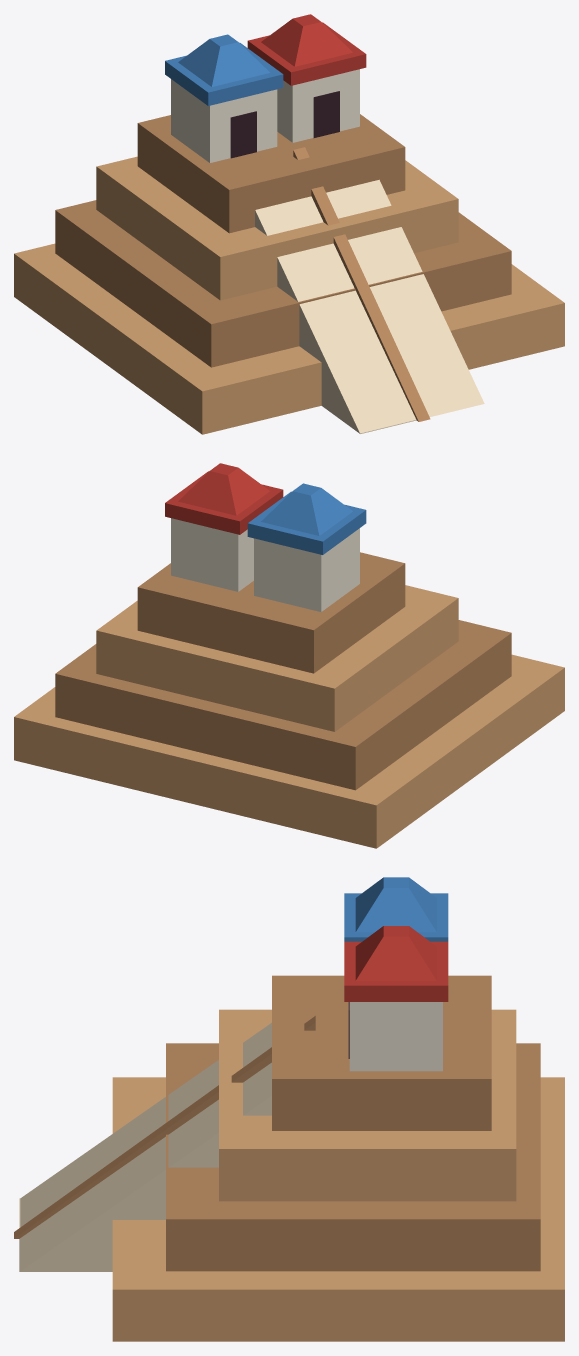
Rendered from aztec_pyramid.glb.
3 renders of one model, top to bottom at view 1: azimuth 30°, elevation 25°; view 2: azimuth 150°, elevation 25°; view 3: azimuth 270°, elevation 25°, orthographic. The views are drawn at different scales.
Bounding box in the file's own units: 14 × 10.1 × 15.35.
